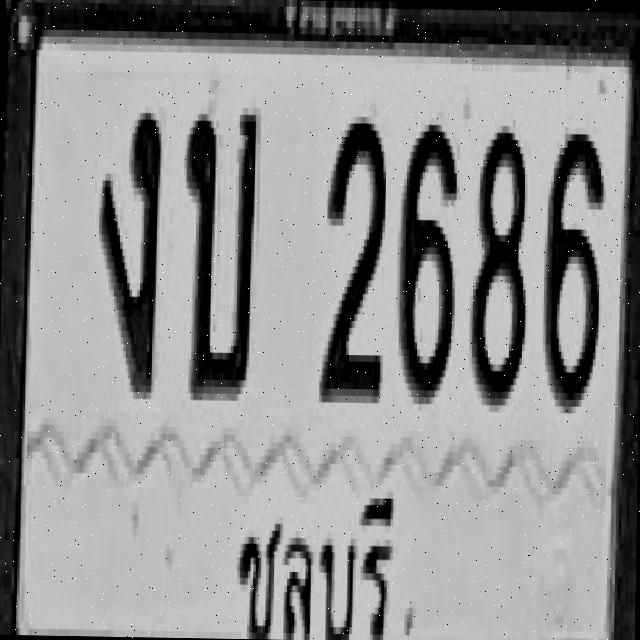16NgorNgu: (96, 105, 160, 392)
2: (318, 109, 386, 396)
35BorBaiMai: (180, 100, 258, 393)
6: (542, 123, 604, 403), (396, 114, 456, 401)
8: (468, 121, 528, 402)
Chonburi: (226, 482, 401, 640)
